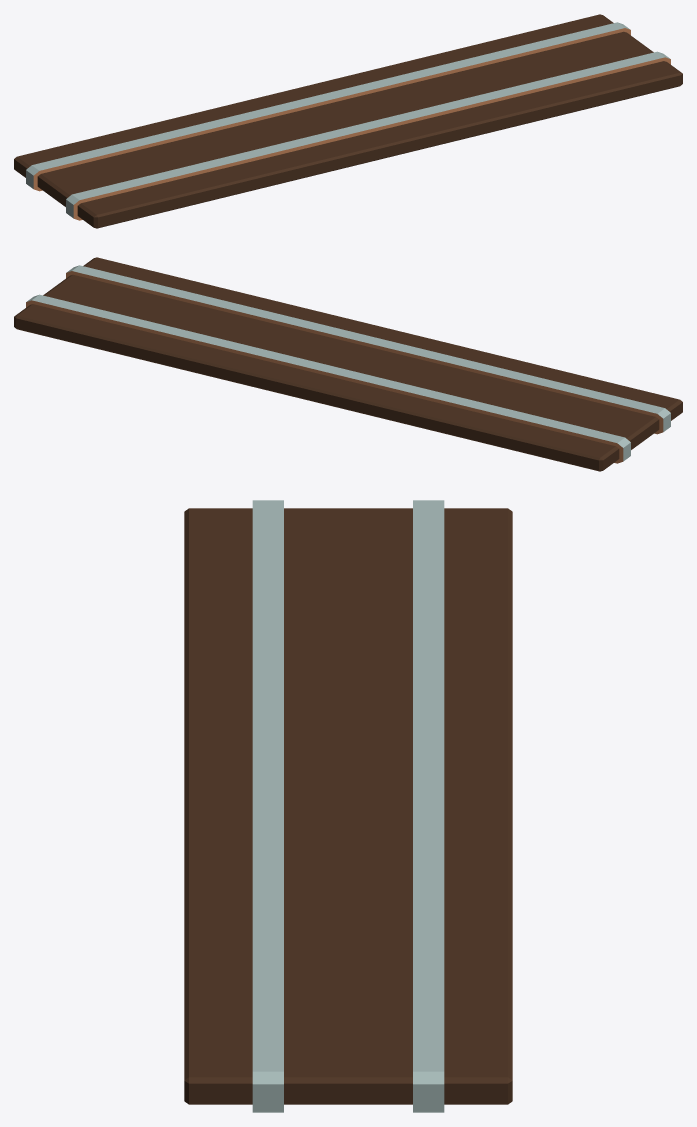
Rendered from Tabua.fbx.
The picture shows the model from 3 angles, top to bottom: view 1: azimuth 30°, elevation 25°; view 2: azimuth 150°, elevation 25°; view 3: azimuth 270°, elevation 25°; orthographic projection. The views are drawn at different scales.
Visible parts, largest first — view 1: Tabua; view 2: Tabua; view 3: Tabua.
Part boxes in pixels (<box>): Tabua: <box>14,14,682,228</box>; Tabua: <box>14,257,682,471</box>; Tabua: <box>184,500,512,1112</box>.
Bounding box in the file's own units: 146 × 4.79 × 34.8.
